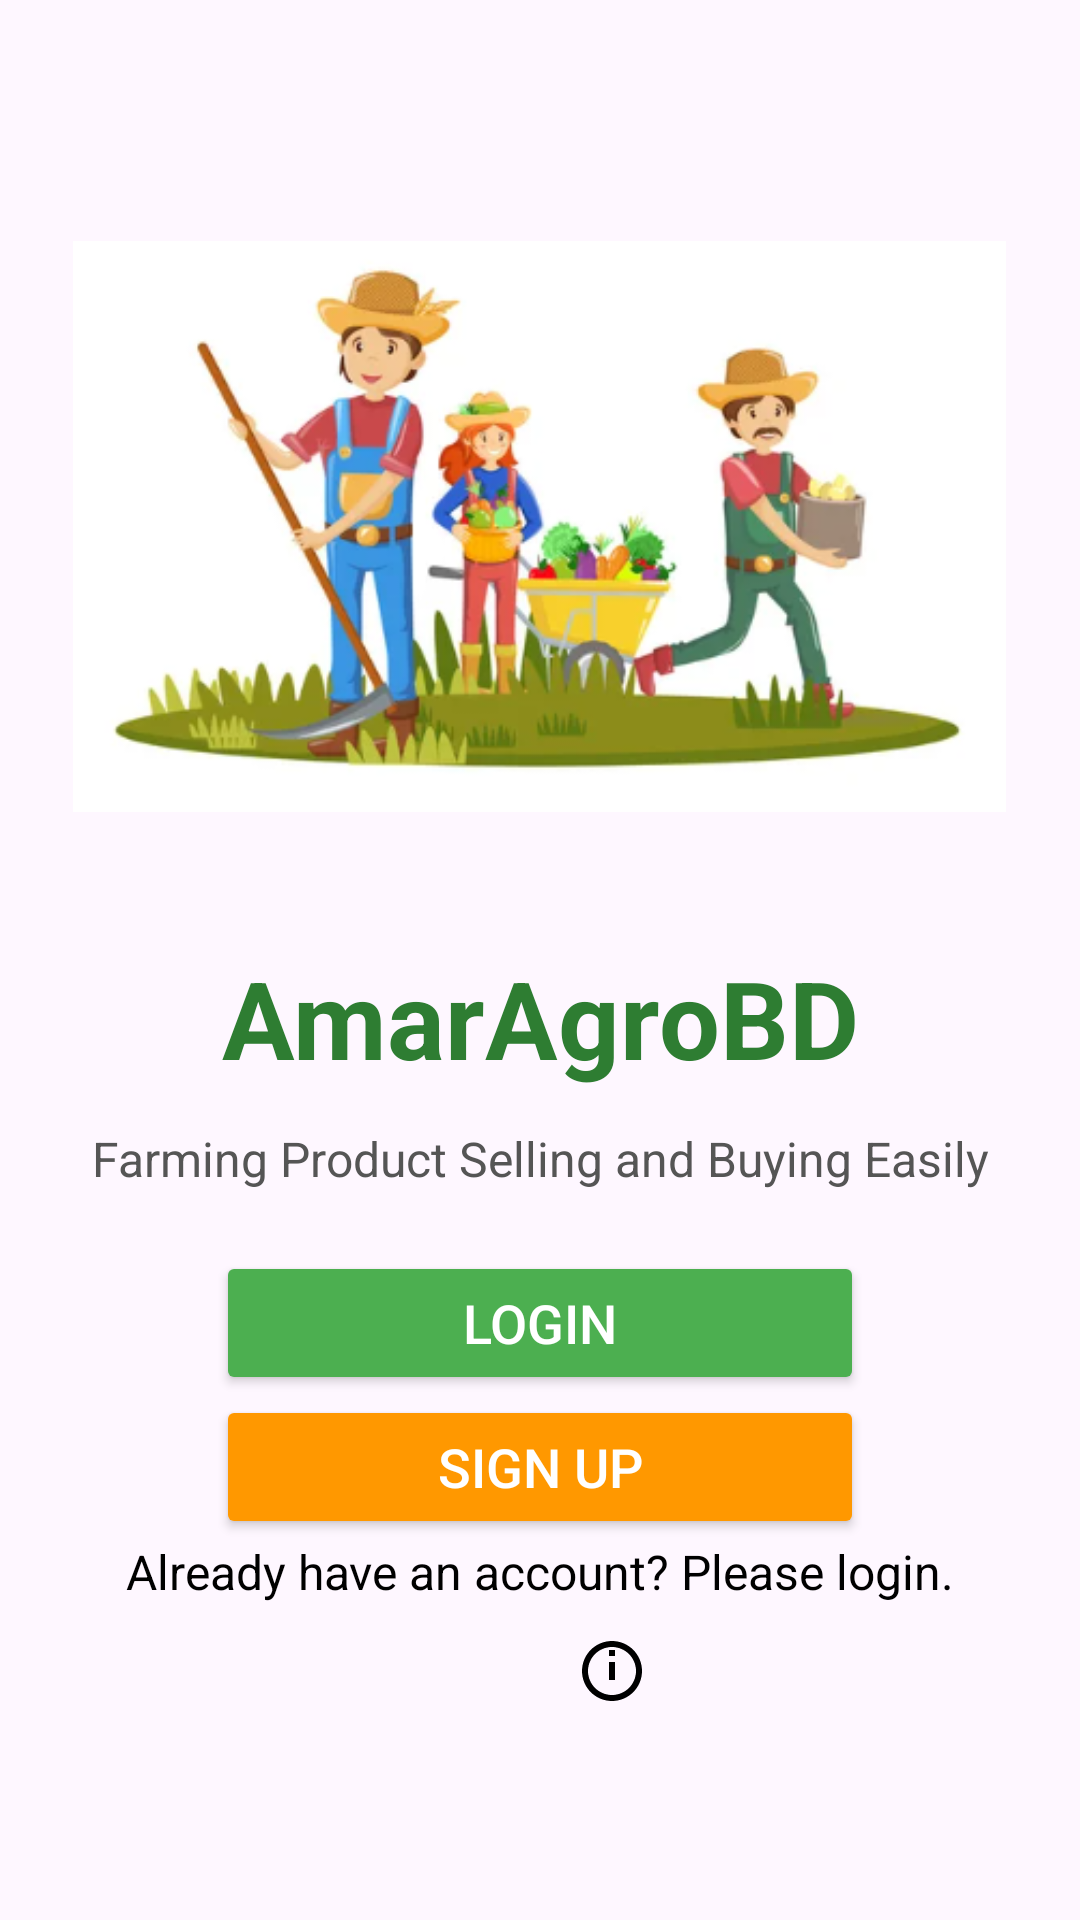

Icon bounding boxes for this 1080×1920 phone screenshot, format (x1, y1, x2, y2):
About: (582, 1641, 642, 1701)
